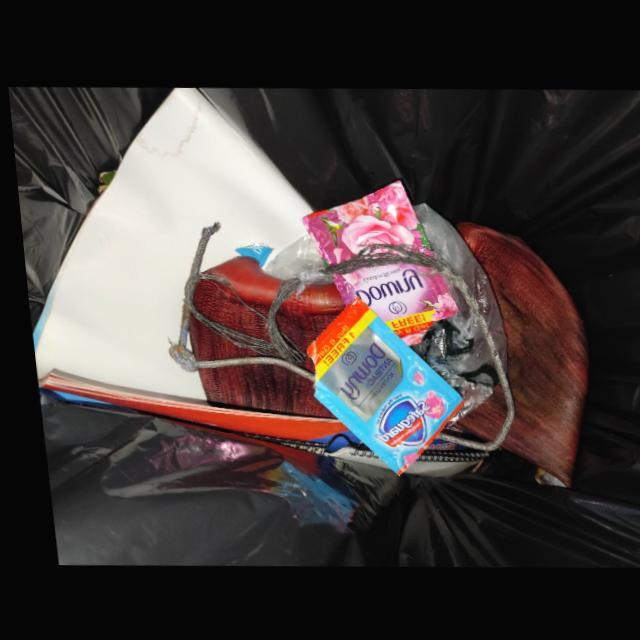biowaste: (451, 220, 582, 488), (180, 255, 340, 417), (446, 382, 499, 441)
paper: (26, 87, 356, 452)
wrapper: (299, 296, 456, 474), (297, 178, 452, 345)
